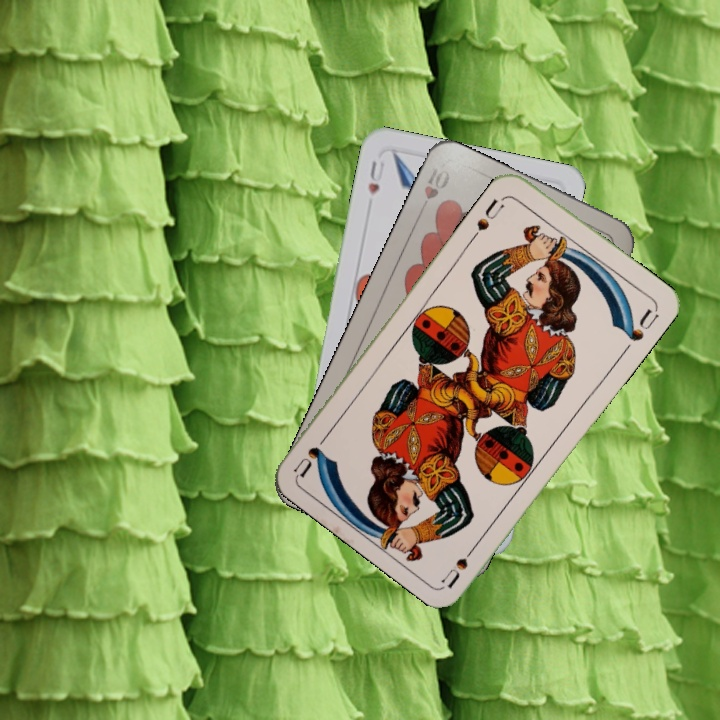H10: (416, 162, 453, 218)
HU: (364, 156, 387, 198)
SU: (438, 536, 483, 590), (467, 195, 507, 242)
